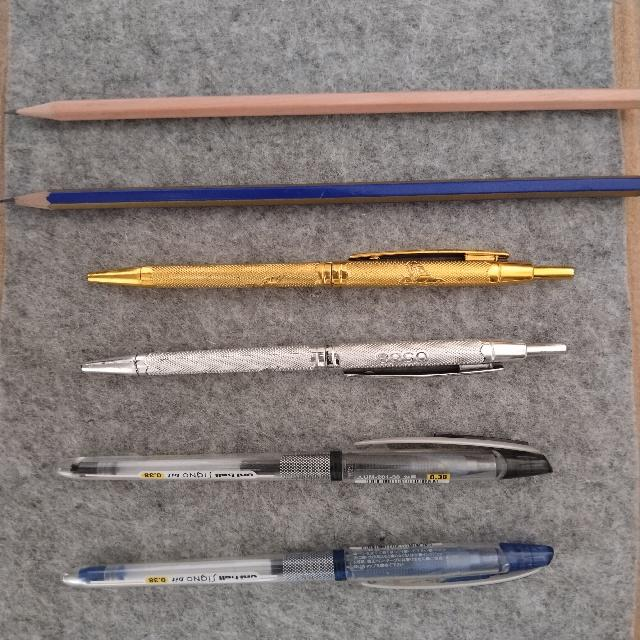pen: (58, 436, 551, 483), (63, 543, 553, 588)
pencil: (15, 176, 639, 209), (17, 88, 639, 120)
signature pen: (88, 250, 573, 287), (82, 339, 565, 375)
